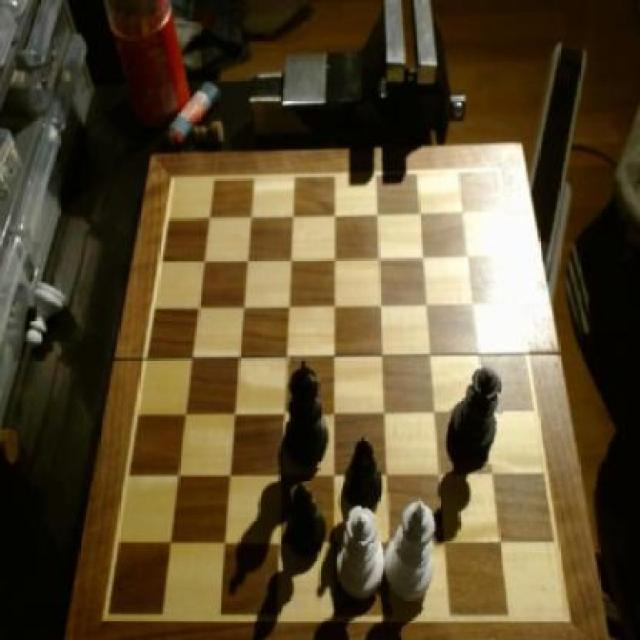bishop: (288, 482, 328, 556), (344, 437, 384, 511)
black-bishop: (283, 357, 332, 468)
black-pawn: (448, 364, 504, 464)
white-bishop: (385, 494, 439, 606)
white-pawn: (338, 506, 387, 598)
